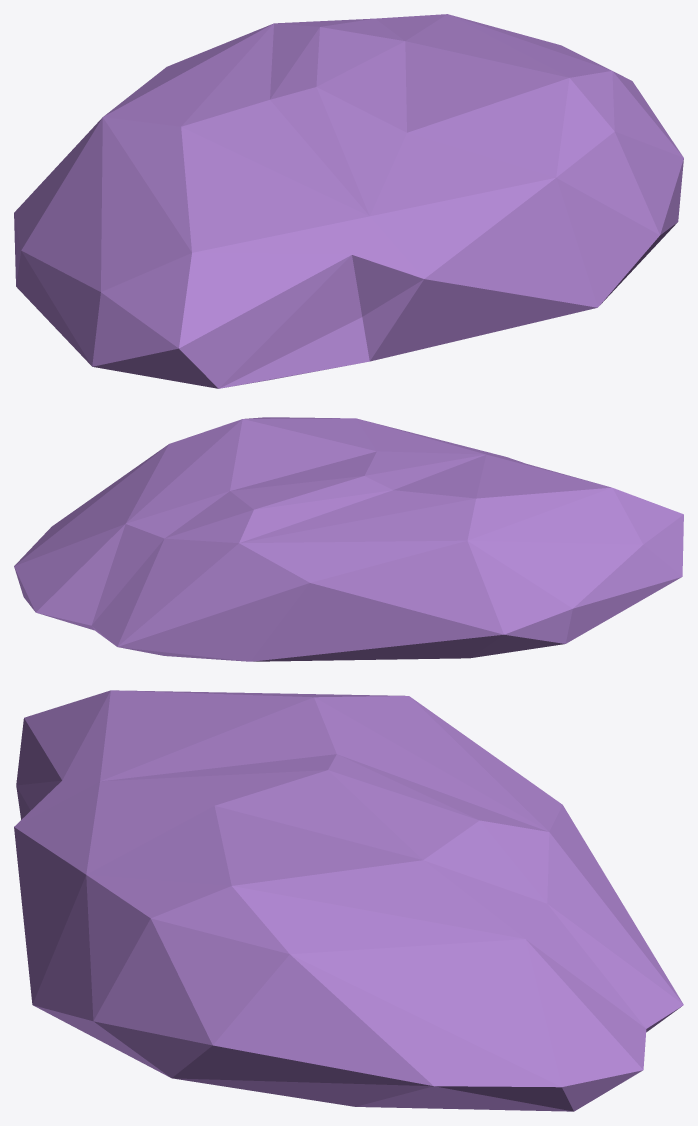
The model's file is boulder4.fbx.
The picture shows the model from 3 angles, top to bottom: view 1: azimuth 30°, elevation 25°; view 2: azimuth 150°, elevation 25°; view 3: azimuth 270°, elevation 25°; orthographic projection. The views are drawn at different scales.
Parts seen in each view (by area): view 1: boulder2.001; view 2: boulder2.001; view 3: boulder2.001.
Boxes of the visible parts, <box> form: boulder2.001: <box>14,14,683,388</box>; boulder2.001: <box>14,417,683,661</box>; boulder2.001: <box>14,690,683,1111</box>.
Bounding box in the file's own units: 1200 × 295 × 955.
